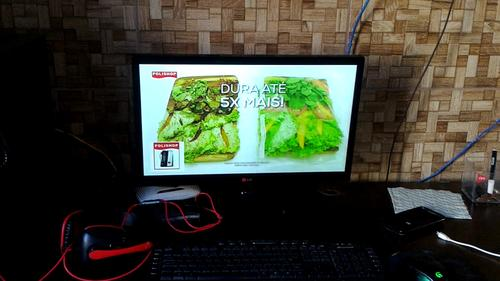Polishop #1: (150, 141, 184, 174)
